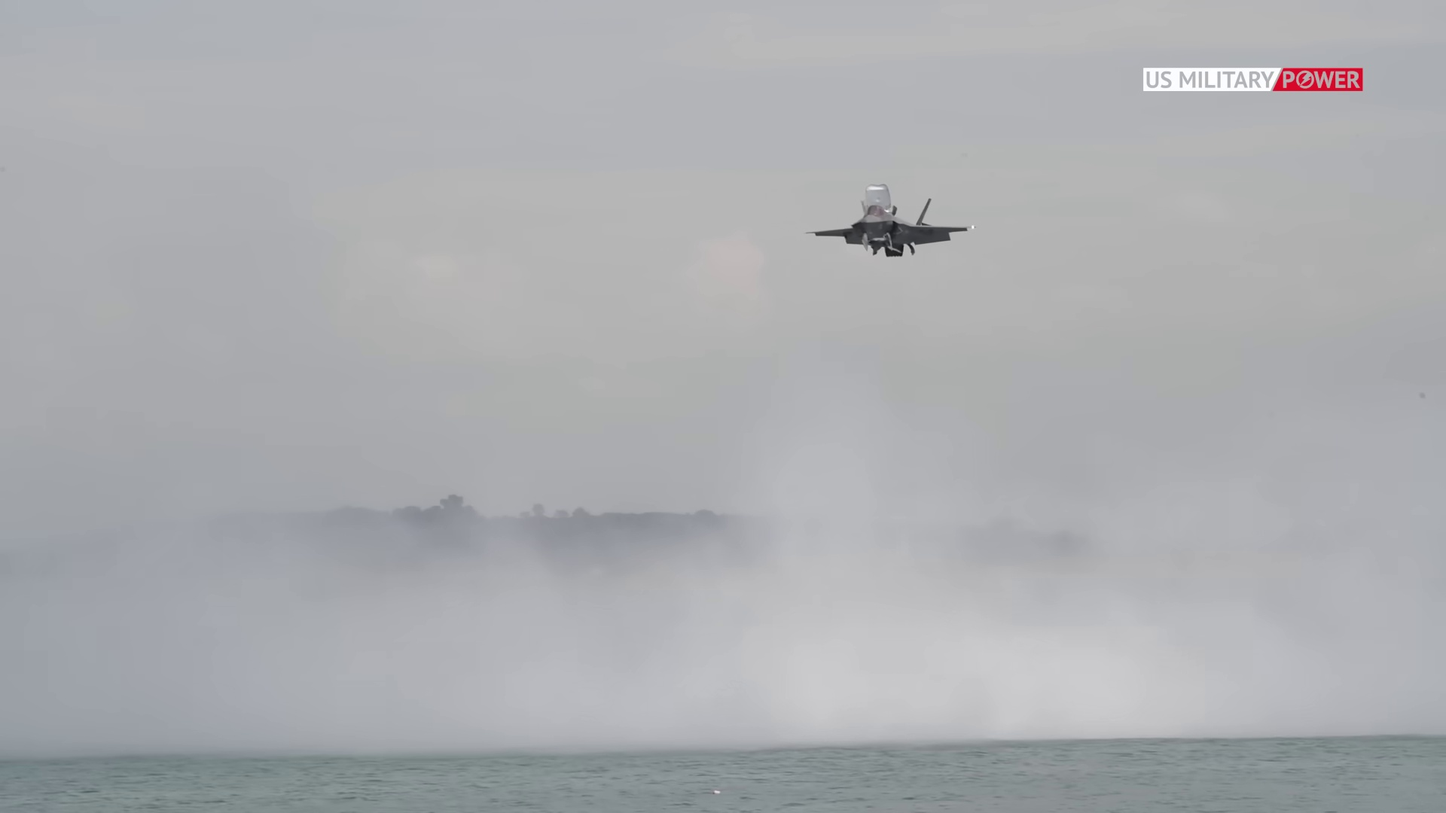F35: (802, 181, 973, 261)
